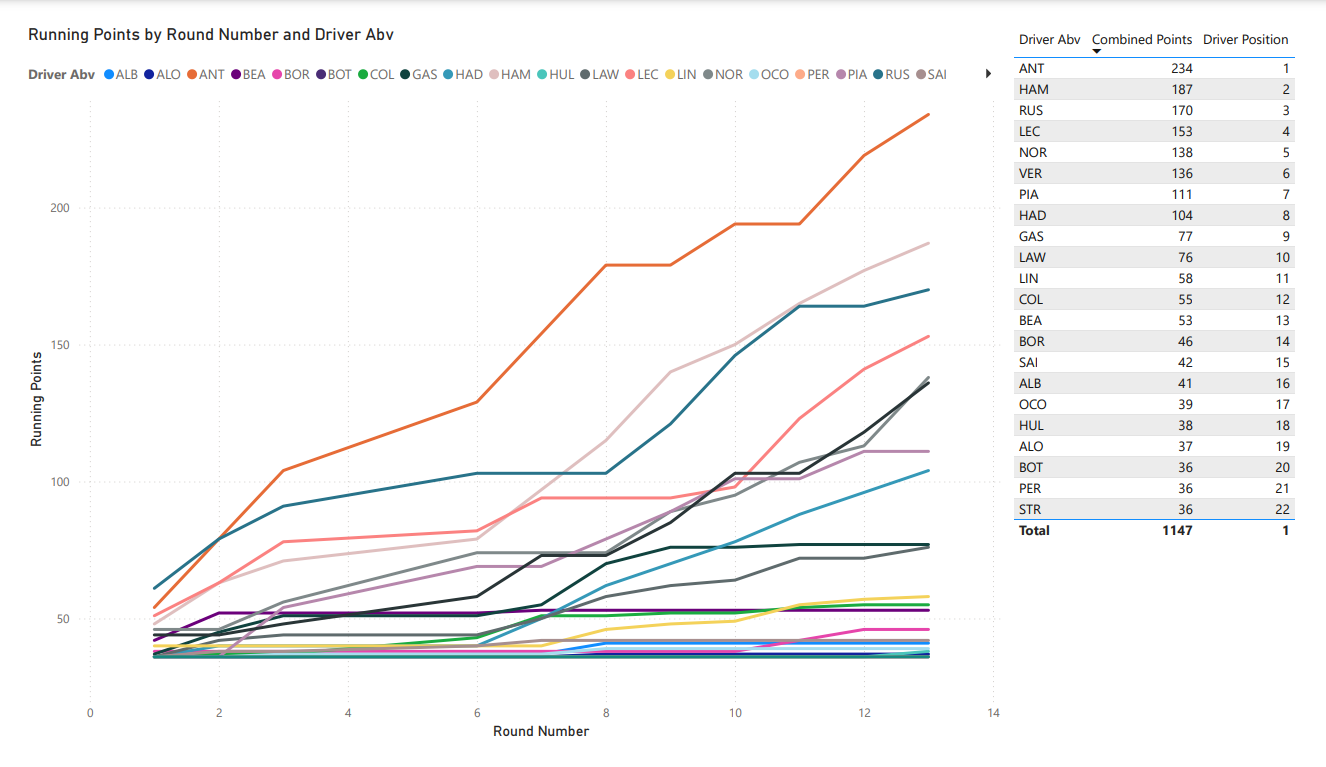

Layout of this report page (visuals, bound fields, positions):
{"tool":"powerbi","page":{"name":"Drivers","canvas":[1280,720],"ordinal":0},"visuals":[{"type":"tableEx","fields":{"Values":["Race Resuts.Driver Abv","Race Resuts.Combined Points","Race Resuts.Driver Position"]},"box":[985.3,0,295,525.6],"z":0},{"type":"lineChart","fields":{"Category":["Race Resuts.Round Number"],"Y":["Race Resuts.Running Points"],"Series":["Race Resuts.Driver Abv"]},"box":[0,0,985.3,720.4],"z":1000}]}

Visuals, with their boxes in screenshot pixels (x1, y1, x2, y2), scaled from the page's 1280x720 canvas onto the 1326x767 screenshot:
tableEx - Race Resuts.Driver Abv x Race Resuts.Combined Points: detection(1021, 0, 1325, 560)
lineChart - Race Resuts.Round Number x Race Resuts.Running Points: detection(0, 0, 1021, 766)
